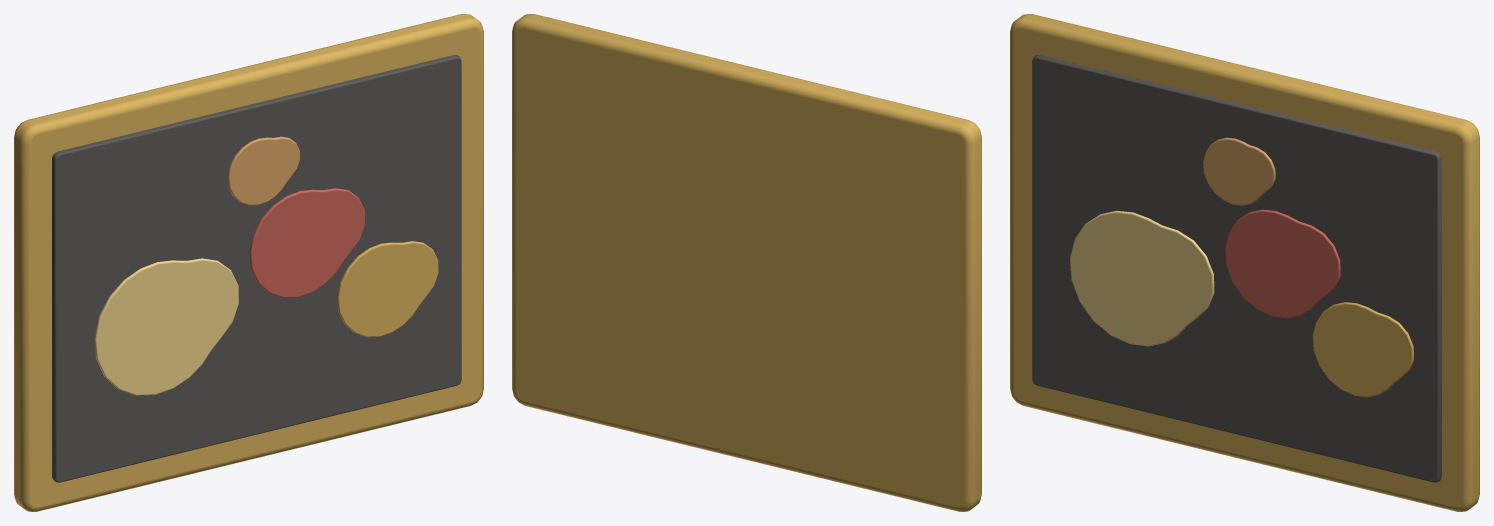
The model's file is framed_painting_night.glb.
The picture shows the model from 3 angles, left to right: view 1: azimuth 30°, elevation 25°; view 2: azimuth 150°, elevation 25°; view 3: azimuth 330°, elevation 25°; orthographic projection.
Visible parts, largest first — view 1: framed_painting_night_mesh; view 2: framed_painting_night_mesh; view 3: framed_painting_night_mesh.
Boxes of the visible parts, bbox=[...] form: framed_painting_night_mesh: bbox=[14, 14, 483, 511]; framed_painting_night_mesh: bbox=[512, 14, 981, 511]; framed_painting_night_mesh: bbox=[1010, 14, 1479, 511].
Size of the model in its own units: 1 by 0.8 by 0.067.
